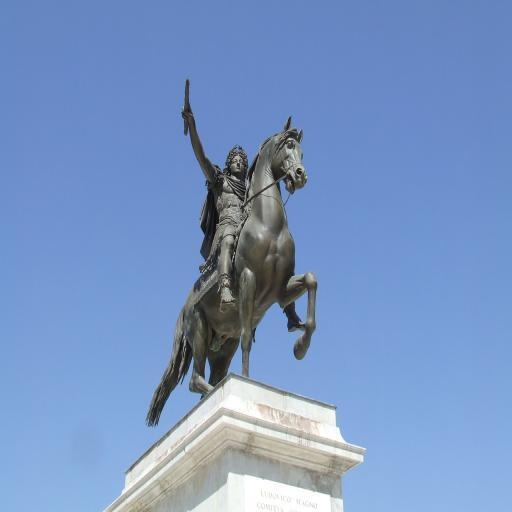horse: (145, 118, 320, 428)
